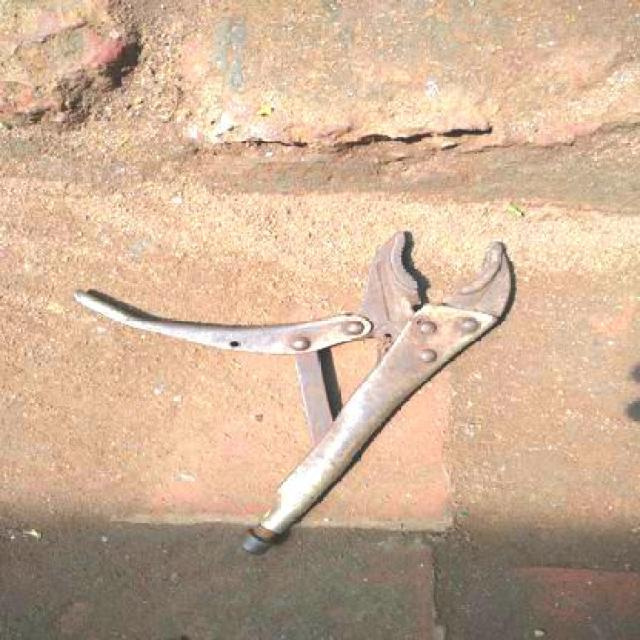Pliers: (71, 227, 517, 562)
